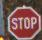Stop sign: (0, 0, 41, 39)
